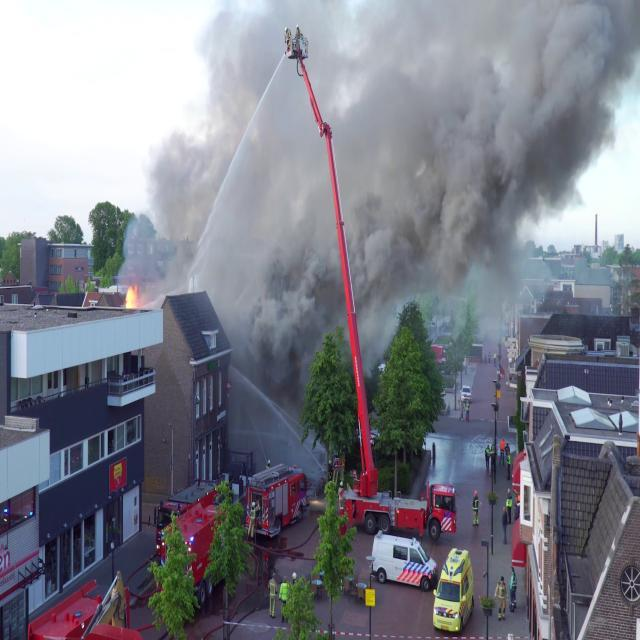Fire: (121, 280, 142, 314)
Smoke: (145, 0, 640, 329)
